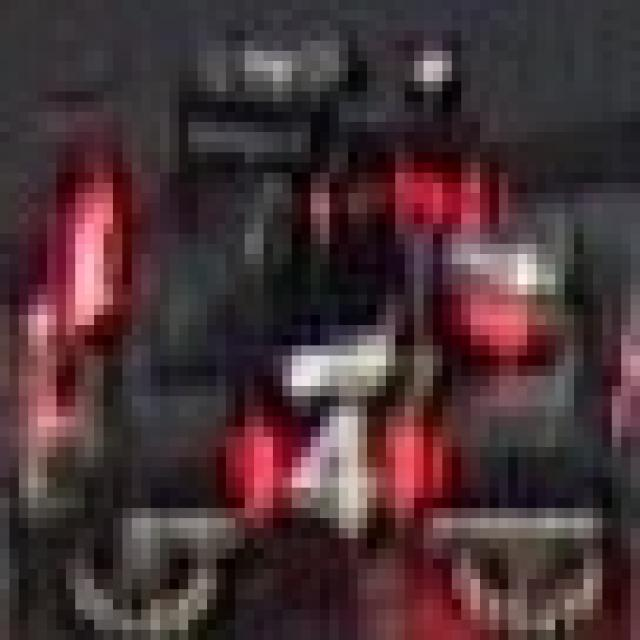R4: (226, 396, 423, 538)
